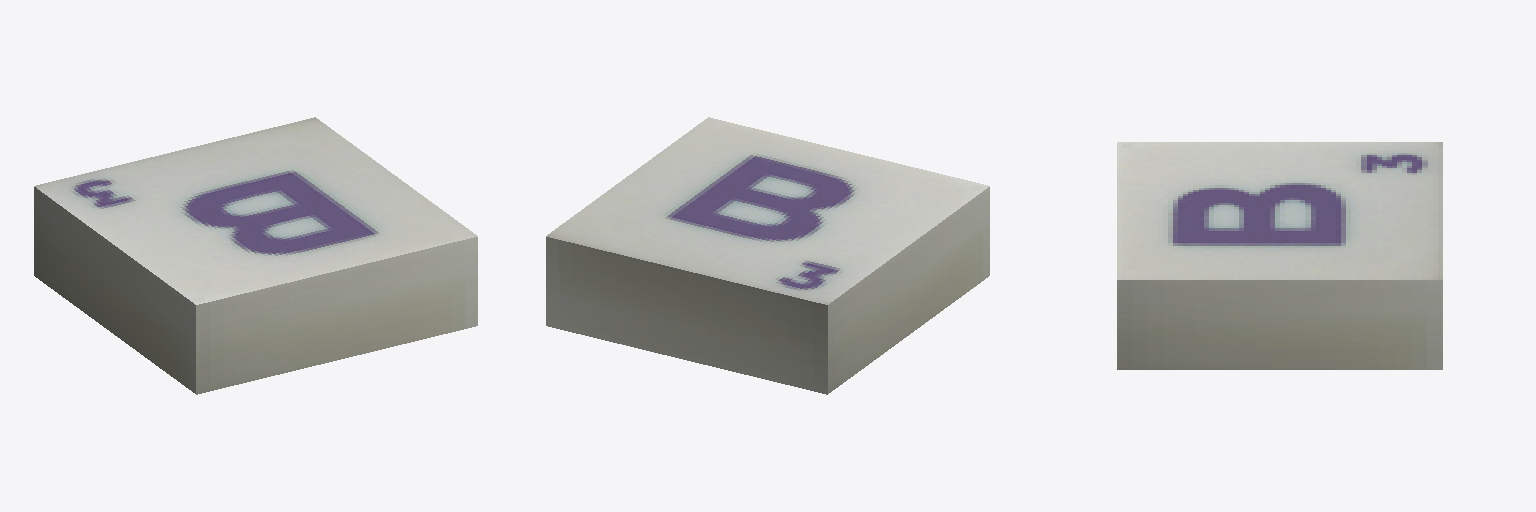
The picture shows the model from 3 angles: view 1: azimuth 30°, elevation 25°; view 2: azimuth 150°, elevation 25°; view 3: azimuth 270°, elevation 25°; orthographic projection.
Parts seen in each view (by area): view 1: Cube; view 2: Cube; view 3: Cube.
Part boxes in pixels (x1,y1,x2,y2): Cube: (34, 117, 477, 394); Cube: (546, 117, 989, 394); Cube: (1117, 142, 1442, 369).
Bounding box in the file's own units: 19.89 × 6.03 × 19.89.
3 materials, 3 textured.